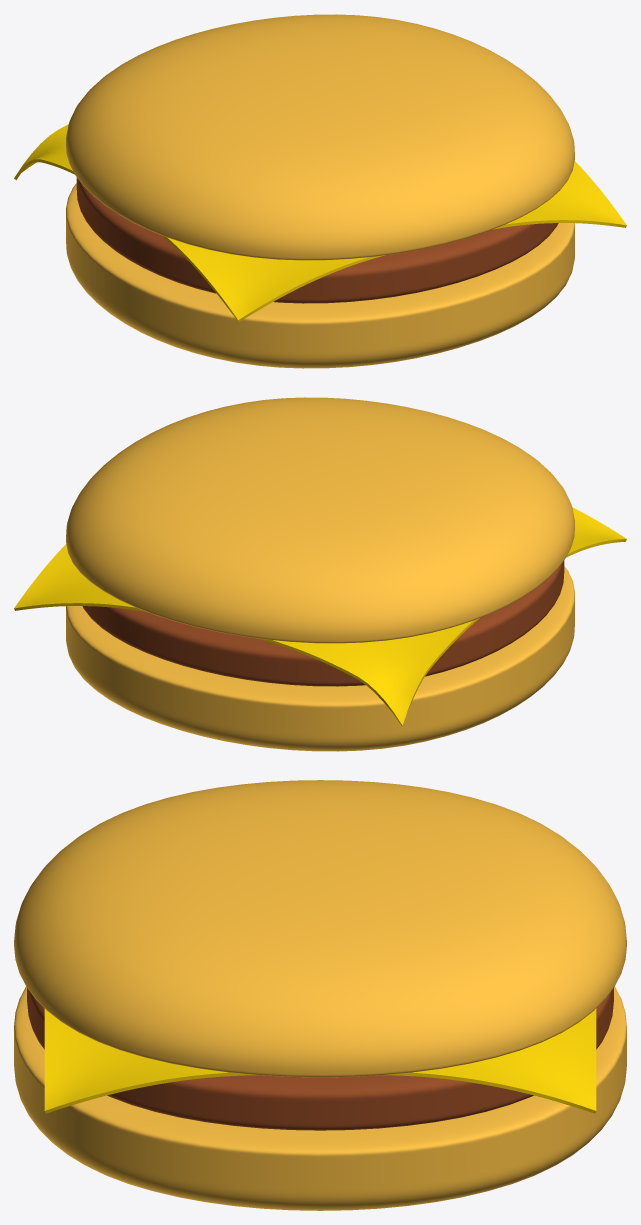
The model's file is hamburger.glb.
3 views of the same model, one above another, from view 1: azimuth 30°, elevation 25°; view 2: azimuth 150°, elevation 25°; view 3: azimuth 270°, elevation 25° (orthographic). The views are drawn at different scales.
Visible parts, largest first — view 1: Cube.002, Cube, Cube.001, Plane; view 2: Cube.002, Cube, Cube.001, Plane; view 3: Cube.002, Cube, Cube.001, Plane.
Part boxes in pixels (x1,y1,x2,y2): Cube.002: [66, 14, 574, 260]; Cube: [66, 183, 574, 368]; Cube.001: [76, 177, 558, 303]; Plane: [14, 124, 626, 322]; Cube.002: [66, 397, 574, 643]; Cube: [66, 566, 574, 751]; Cube.001: [82, 560, 564, 686]; Plane: [14, 507, 626, 725]; Cube.002: [14, 780, 626, 1077]; Cube: [14, 986, 626, 1210]; Cube.001: [27, 988, 613, 1130]; Plane: [44, 1008, 596, 1113].
Bounding box in the file's own units: 9.28 × 4.23 × 9.28.
